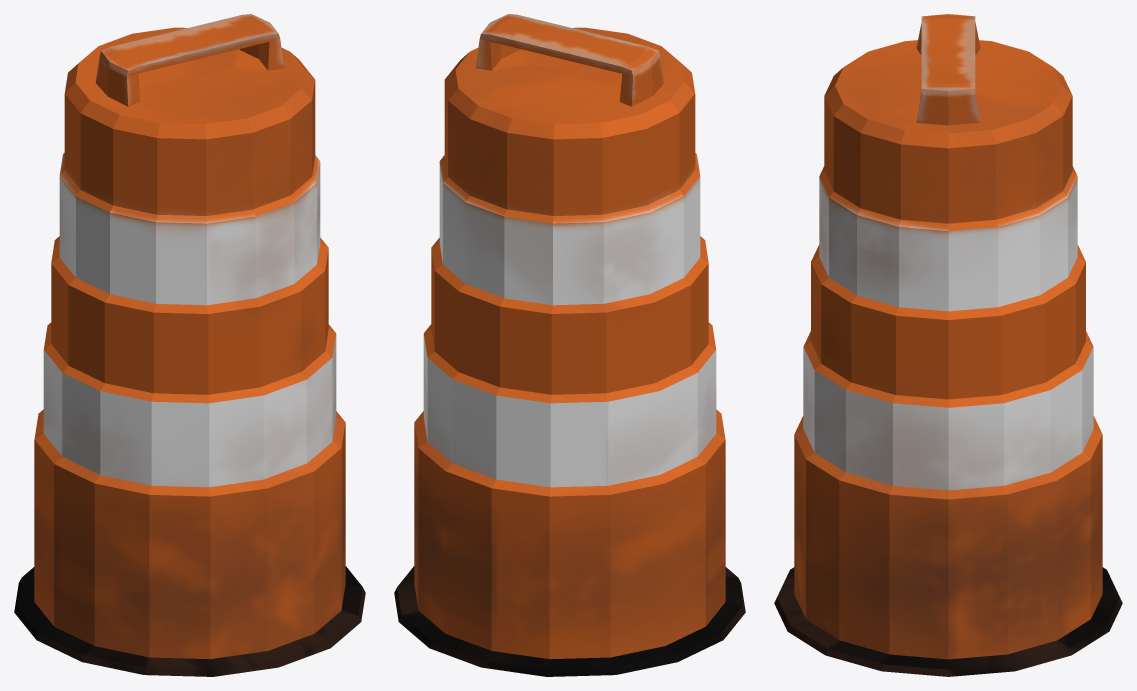
Rendered from barrage, 4.fbx.
3 renders of one model, left to right at view 1: azimuth 30°, elevation 25°; view 2: azimuth 150°, elevation 25°; view 3: azimuth 270°, elevation 25°, orthographic.
Parts seen in each view (by area): view 1: Circle; view 2: Circle; view 3: Circle.
Part boxes in pixels (x1=…): Circle: x1=14, y1=14, x2=365, y2=676; Circle: x1=394, y1=14, x2=745, y2=676; Circle: x1=774, y1=14, x2=1122, y2=676.
Bounding box in the file's own units: 0.1824 × 0.3189 × 0.1824.
